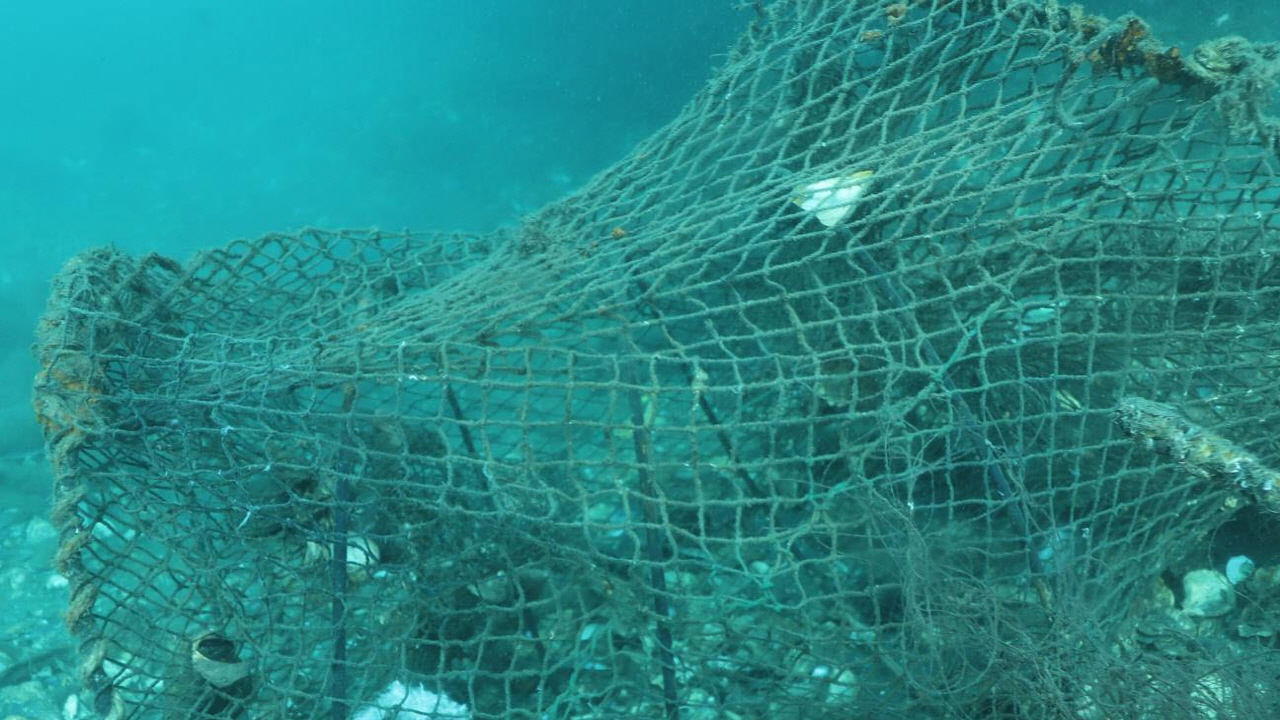spring fish trap: (28, 0, 1280, 720)
